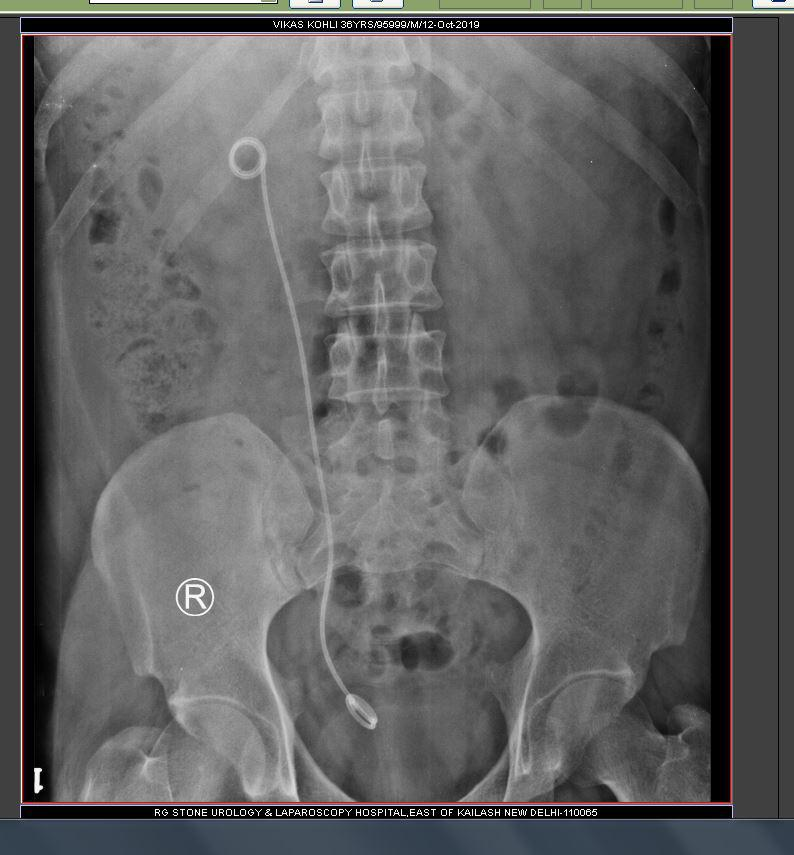bladder: (310, 694, 496, 801)
vertebrae: (312, 85, 424, 158)
